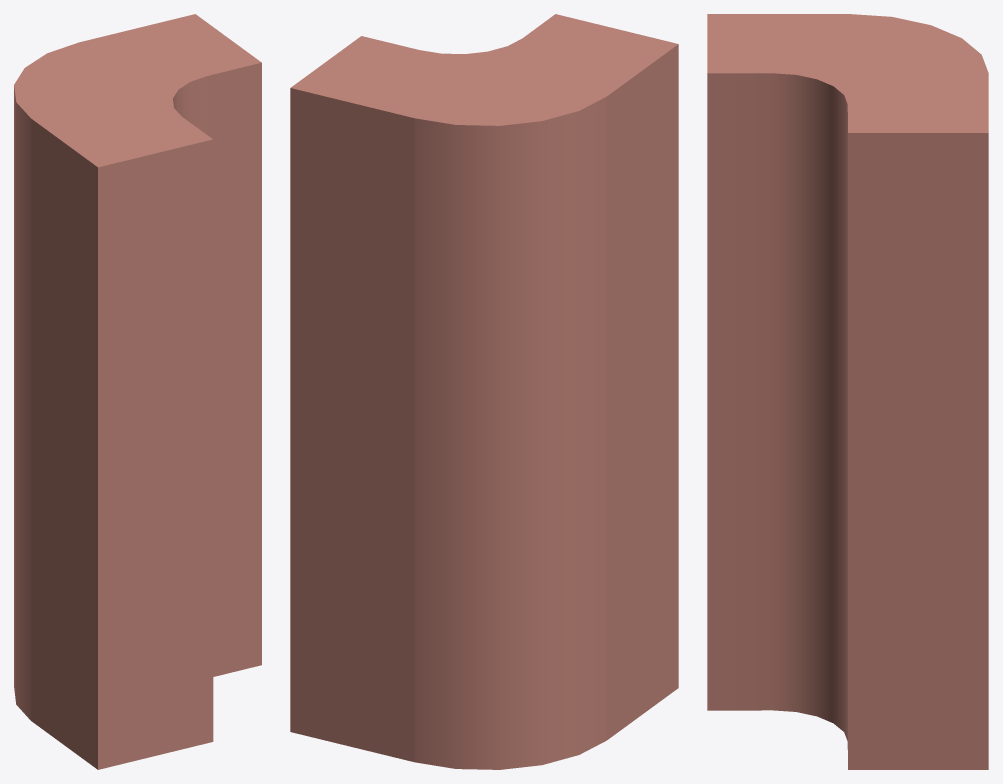
The model's file is BasicWall1x5CornerRounded.fbx.
The picture shows the model from 3 angles, left to right: view 1: azimuth 30°, elevation 25°; view 2: azimuth 150°, elevation 25°; view 3: azimuth 270°, elevation 25°; orthographic projection. The views are drawn at different scales.
Visible parts, largest first — view 1: BasicWall1x5CornerRounded.002; view 2: BasicWall1x5CornerRounded.002; view 3: BasicWall1x5CornerRounded.002.
Boxes of the visible parts, x1,y1,x2,y2 form: BasicWall1x5CornerRounded.002: (14,14,261,769); BasicWall1x5CornerRounded.002: (290,14,678,769); BasicWall1x5CornerRounded.002: (707,14,988,769).
Bounding box in the file's own units: 200 × 500 × 200.
